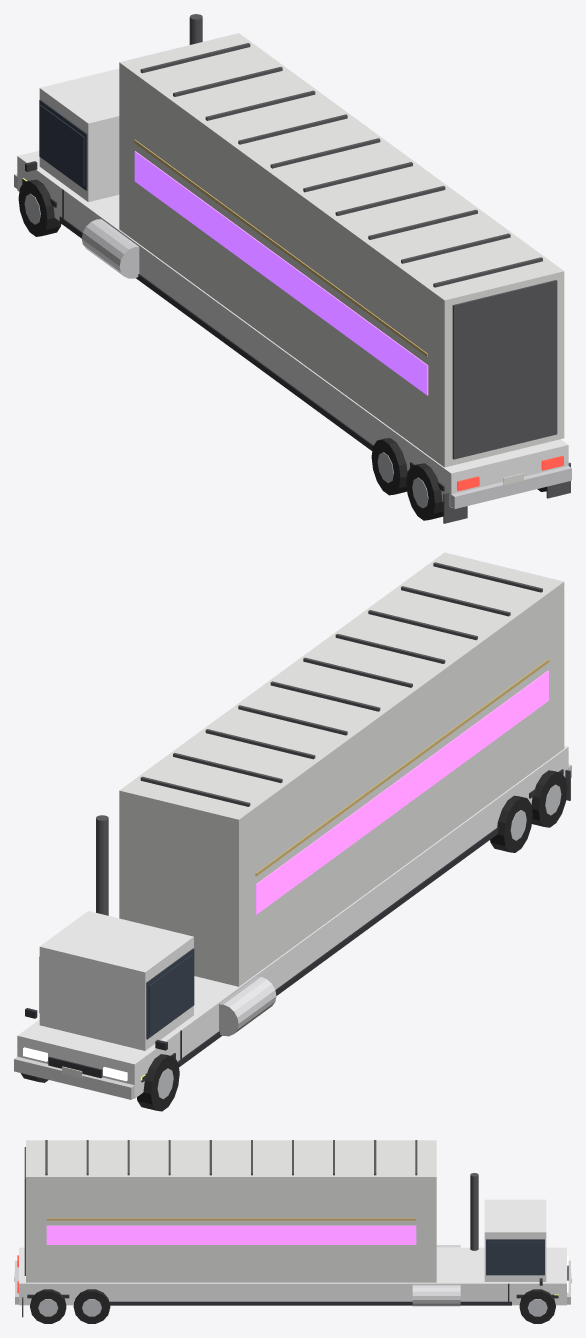
Rendered from car_semi.glb.
The picture shows the model from 3 angles, top to bottom: view 1: azimuth 30°, elevation 25°; view 2: azimuth 150°, elevation 25°; view 3: azimuth 270°, elevation 25°; orthographic projection. The views are drawn at different scales.
Visible parts, largest first — view 1: Semi_box, Semi_door, Semi_body, Semi_stripe-1, Semi_cab, Semi_sideglass-1, Semi_tank-1, Semi_sill-1, Semi_bumperR, Semi_tire-17, Semi_tire-1-7, Semi_pin-1 (+2 smaller); view 2: Semi_box, Semi_body, Semi_cab, Semi_stripe-1, Semi_sideglass-1, Semi_tank-1, Semi_sill-1, Semi_bumperF, Semi_tire-17, Semi_tire-1-6, Semi_pin-1, Semi_tire-1-7 (+2 smaller); view 3: Semi_box, Semi_body, Semi_stripe1, Semi_cab, Semi_sill1, Semi_sideglass1, Semi_tank1, Semi_pin1, Semi_tire1-6, Semi_tire1-7, Semi_tire17, Semi_stack (+5 smaller).
Part boxes in pixels (x1=…): Semi_box: x1=119, y1=33, x2=564, y2=467; Semi_door: x1=452, y1=280, x2=557, y2=459; Semi_body: x1=17, y1=151, x2=568, y2=507; Semi_stripe-1: x1=134, y1=151, x2=428, y2=395; Semi_cab: x1=39, y1=68, x2=119, y2=201; Semi_sideglass-1: x1=40, y1=105, x2=84, y2=185; Semi_tank-1: x1=81, y1=219, x2=139, y2=278; Semi_sill-1: x1=59, y1=216, x2=407, y2=475; Semi_bumperR: x1=450, y1=466, x2=571, y2=509; Semi_tire-17: x1=18, y1=179, x2=61, y2=236; Semi_tire-1-7: x1=406, y1=463, x2=443, y2=520; Semi_pin-1: x1=134, y1=139, x2=427, y2=356; Semi_box: x1=119, y1=552, x2=564, y2=986; Semi_body: x1=17, y1=746, x2=568, y2=1098; Semi_cab: x1=39, y1=911, x2=193, y2=1050; Semi_stripe-1: x1=255, y1=670, x2=548, y2=914; Semi_sideglass-1: x1=148, y1=954, x2=193, y2=1034; Semi_tank-1: x1=219, y1=976, x2=276, y2=1036; Semi_sill-1: x1=178, y1=827, x2=498, y2=1067; Semi_bumperF: x1=14, y1=1056, x2=134, y2=1099; Semi_tire-17: x1=137, y1=1054, x2=179, y2=1111; Semi_tire-1-6: x1=490, y1=795, x2=532, y2=852; Semi_pin-1: x1=255, y1=659, x2=549, y2=876; Semi_tire-1-7: x1=531, y1=770, x2=567, y2=827; Semi_box: x1=26, y1=1140, x2=436, y2=1282; Semi_body: x1=19, y1=1247, x2=566, y2=1305; Semi_stripe1: x1=46, y1=1225, x2=416, y2=1244; Semi_cab: x1=484, y1=1199, x2=546, y2=1281; Semi_sill1: x1=74, y1=1301, x2=511, y2=1305; Semi_sideglass1: x1=487, y1=1242, x2=543, y2=1272; Semi_tank1: x1=412, y1=1284, x2=460, y2=1306; Semi_pin1: x1=46, y1=1218, x2=416, y2=1220; Semi_tire1-6: x1=73, y1=1289, x2=110, y2=1323; Semi_tire1-7: x1=30, y1=1289, x2=66, y2=1323; Semi_tire17: x1=519, y1=1289, x2=555, y2=1323; Semi_stack: x1=470, y1=1173, x2=478, y2=1250.
Bounding box in the file's own units: 3.34 × 4.73 × 16.3.
